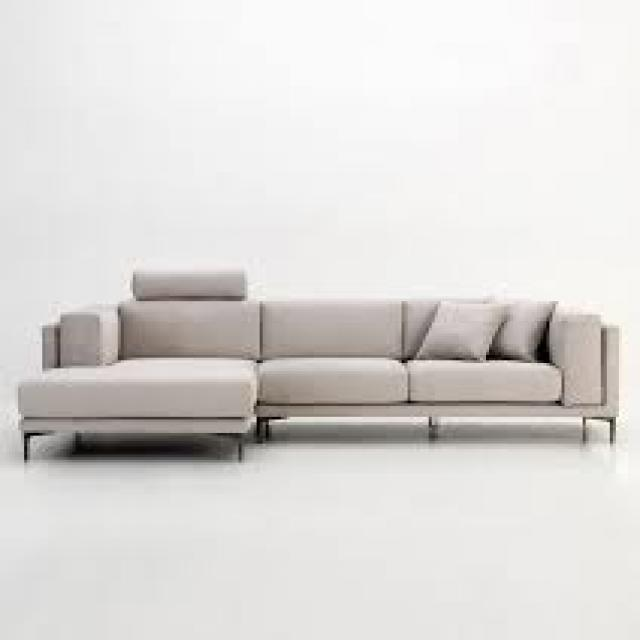Sofa: (10, 258, 640, 514)
